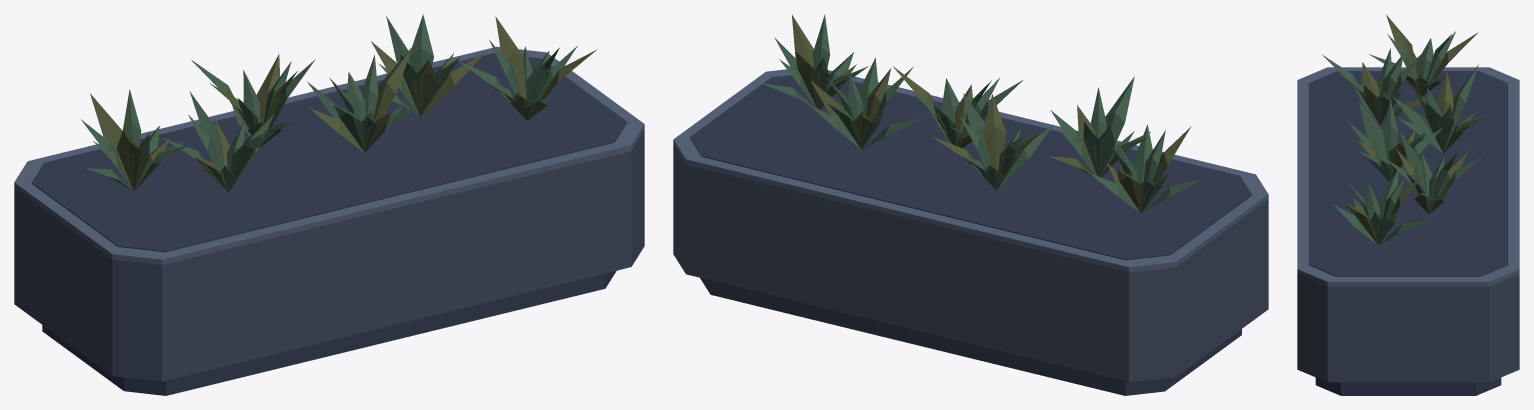
File: mall_planter.glb
The picture shows the model from 3 angles, left to right: view 1: azimuth 30°, elevation 25°; view 2: azimuth 150°, elevation 25°; view 3: azimuth 270°, elevation 25°; orthographic projection. The views are drawn at different scales.
Visible parts, largest first — view 1: cast_trough, shadow_plinth, folded_leaf.001, rim, folded_leaf; view 2: cast_trough, shadow_plinth, folded_leaf.001, rim, folded_leaf; view 3: shadow_plinth, cast_trough, folded_leaf.001, rim, folded_leaf.
Part boxes in pixels (x1,y1,x2,y2): cast_trough: [14, 131, 644, 381]; shadow_plinth: [31, 53, 627, 395]; folded_leaf.001: [81, 14, 577, 192]; rim: [14, 46, 644, 264]; folded_leaf: [90, 16, 597, 191]; cast_trough: [673, 144, 1268, 382]; shadow_plinth: [690, 75, 1251, 395]; folded_leaf.001: [762, 14, 1205, 213]; rim: [673, 69, 1268, 272]; folded_leaf: [792, 15, 1191, 213]; shadow_plinth: [1308, 71, 1508, 395]; cast_trough: [1297, 273, 1519, 382]; folded_leaf.001: [1322, 31, 1487, 245]; rim: [1297, 67, 1519, 286]; folded_leaf: [1344, 14, 1483, 244].
Size of the model in its own units: 3.2 by 1.35 by 1.4.
